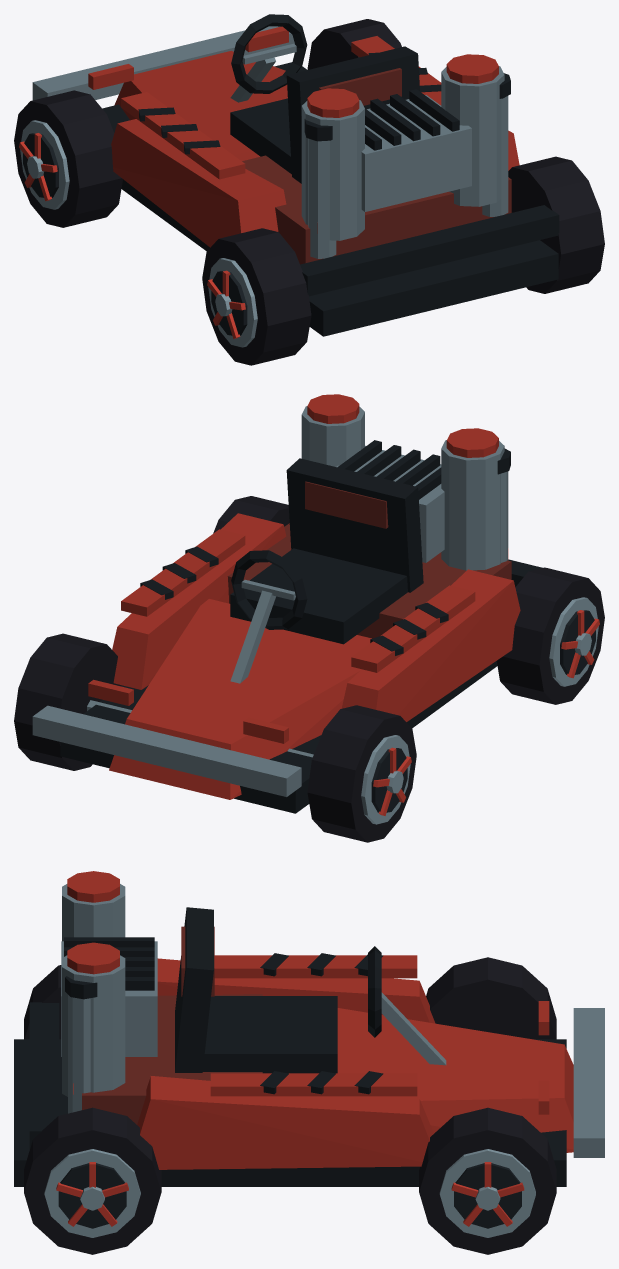
The model's file is kart.glb.
3 views of the same model, one above another, from view 1: azimuth 30°, elevation 25°; view 2: azimuth 150°, elevation 25°; view 3: azimuth 270°, elevation 25° (orthographic). The views are drawn at different scales.
Parts seen in each view (by area): view 1: chassis, wheel-rear-left, wheel-front-left, wheel-rear-right, wheel-front-right; view 2: chassis, wheel-front-left, wheel-rear-left, wheel-front-right, wheel-rear-right; view 3: chassis, wheel-front-right, wheel-rear-right, wheel-front-left, wheel-rear-left.
Part boxes in pixels (bbox=[...]): chassis: bbox=[32, 14, 559, 336]; wheel-rear-left: bbox=[202, 228, 311, 365]; wheel-front-left: bbox=[14, 90, 122, 227]; wheel-rear-right: bbox=[508, 156, 604, 293]; wheel-front-right: bbox=[307, 19, 401, 69]; chassis: bbox=[32, 394, 542, 813]; wheel-front-left: bbox=[307, 705, 416, 842]; wheel-rear-left: bbox=[496, 567, 604, 704]; wheel-front-right: bbox=[14, 633, 121, 770]; wheel-rear-right: bbox=[213, 496, 289, 533]; chassis: bbox=[14, 871, 604, 1186]; wheel-front-right: bbox=[419, 1107, 556, 1254]; wheel-rear-right: bbox=[24, 1107, 161, 1254]; wheel-front-left: bbox=[426, 957, 556, 1039]; wheel-rear-left: bbox=[24, 965, 61, 1039].
Size of the model in its own units: 2.25 by 1.4 by 3.
